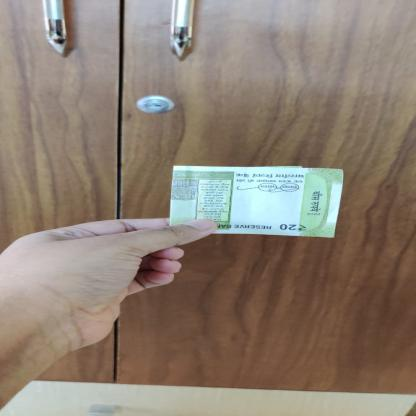New20Back: (167, 163, 347, 240)
